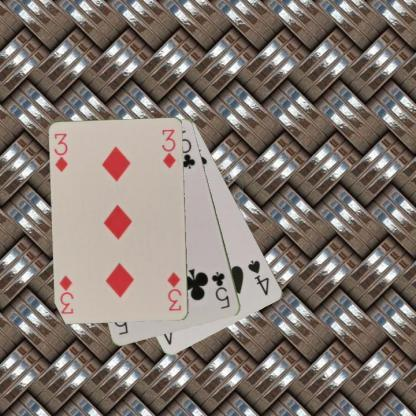3d: (52, 130, 70, 173), (165, 270, 182, 312)
4s: (245, 257, 272, 297)
5c: (209, 269, 232, 311)
